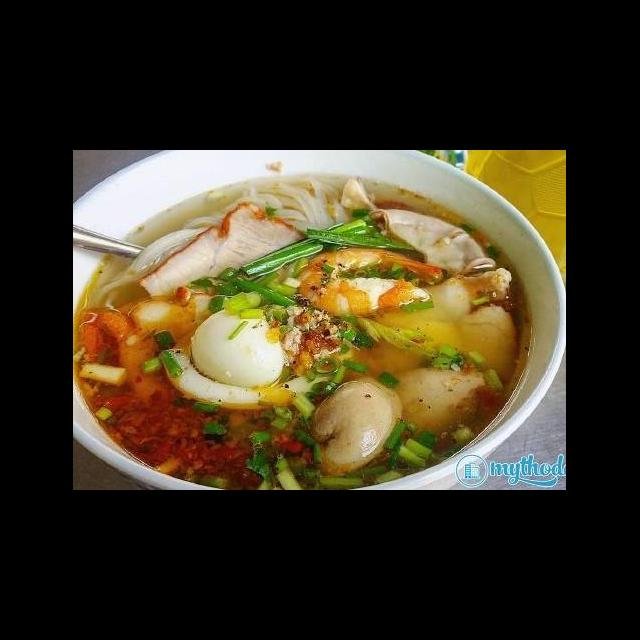banh hu tieu: (116, 201, 237, 279), (238, 173, 358, 238)
hu tieu: (75, 169, 536, 484)
thit bam: (276, 289, 351, 373)
thit heo: (134, 197, 314, 309)
tom: (290, 239, 450, 319)
trung: (184, 302, 294, 392)
